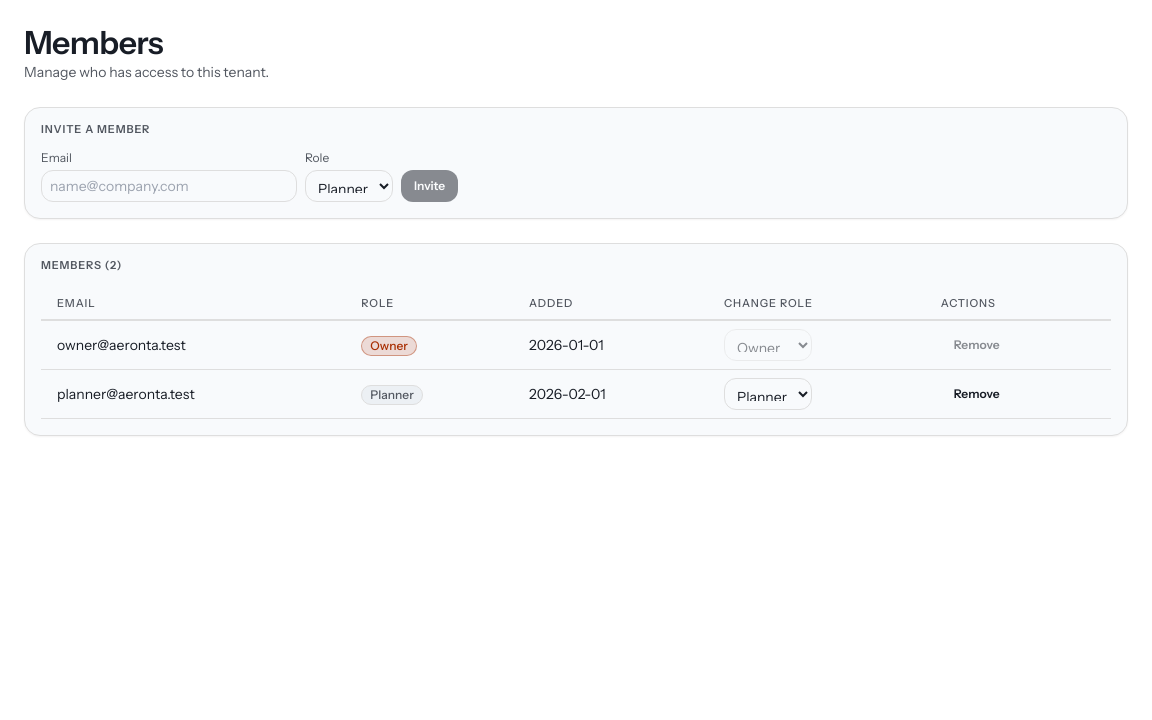
Test: Members › remove: clicking Remove opens a confirm dialog, and confirming issues the DELETE
Expected: the text "planner@aeronta.test" is shown, [41,370,345,419]
What coordinates should you click on to do the following:
click the button "Remove" in the row of "planner@aeronta.test"
I would click on:
 (977, 394)
Its box is [941,378,1012,410].
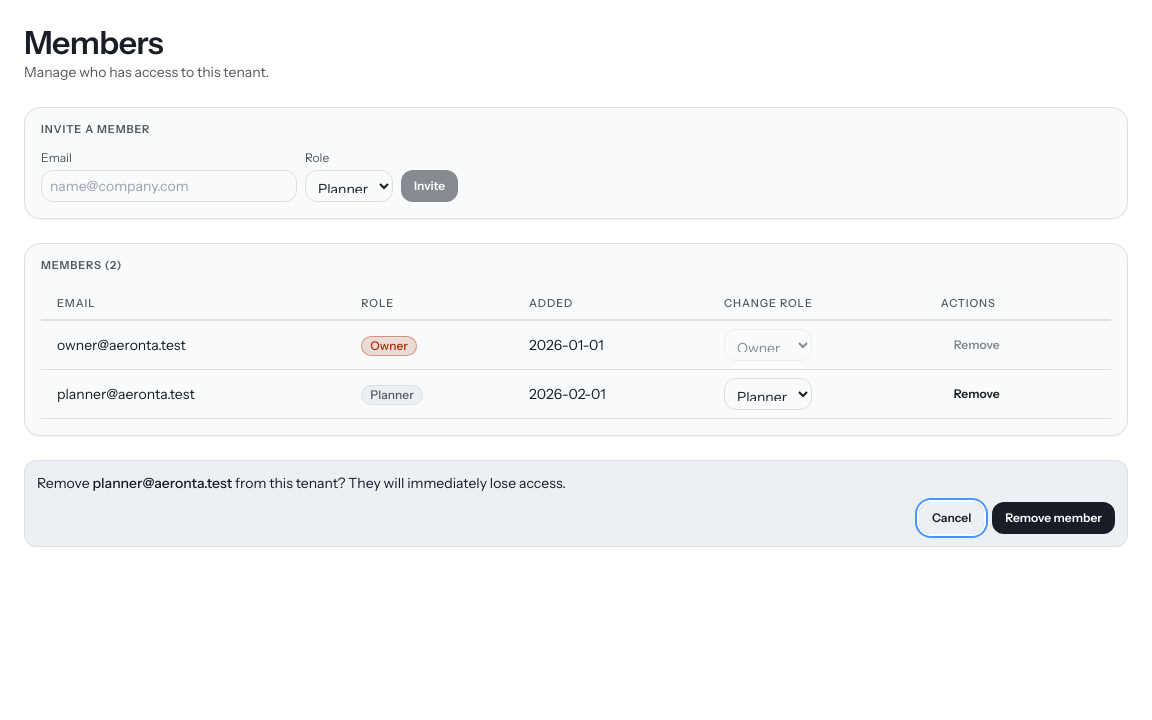
Result: the text "planner@aeronta.test" is shown at [92,474,232,492]
What coordinates should you click on to do the following:
click the button "Remove member"
I would click on:
 (1054, 518)
Its box is [992,502,1115,534].
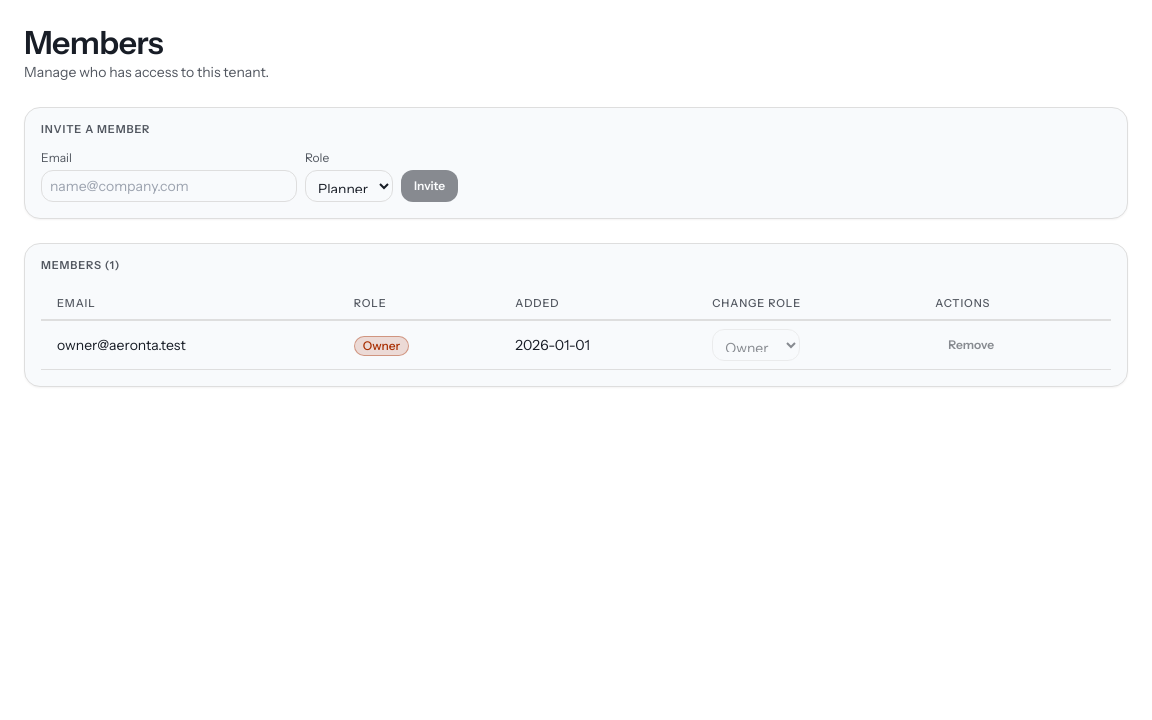
Result: the text "planner@aeronta.test" is gone
Result: the dialog is gone
